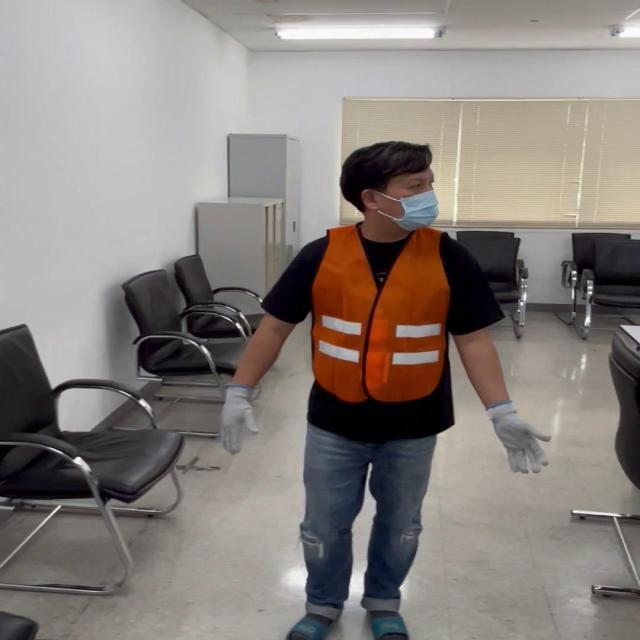gloved_hand: (483, 400, 550, 471), (216, 382, 268, 456)
